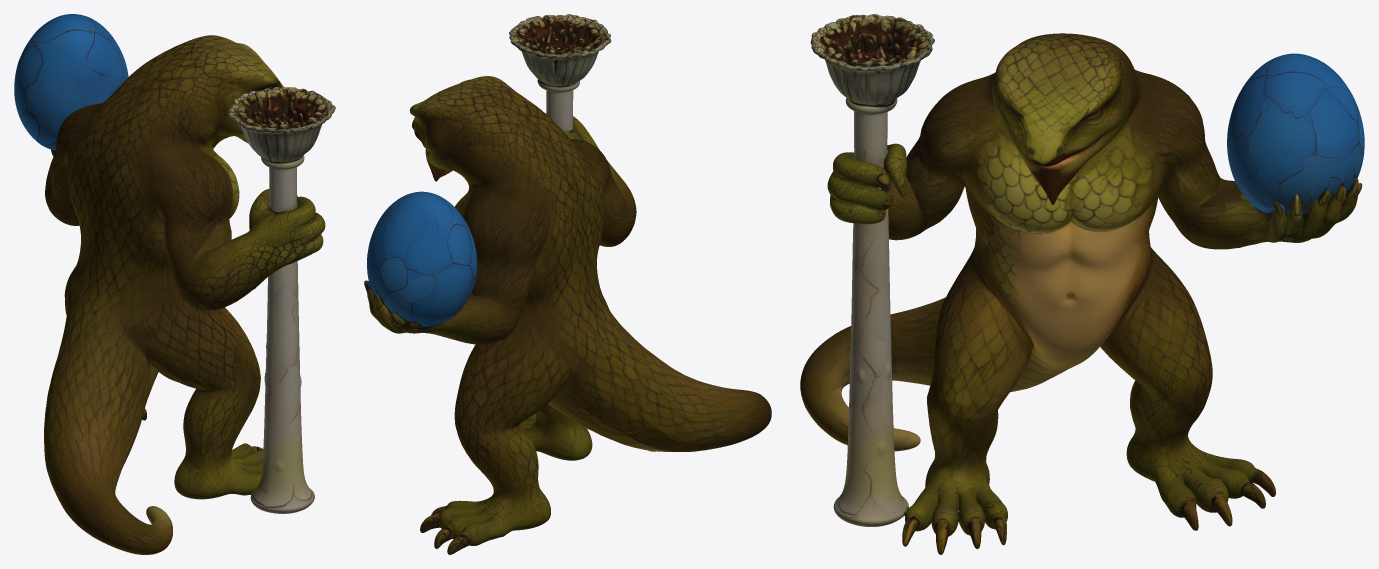
The picture shows the model from 3 angles, left to right: view 1: azimuth 30°, elevation 25°; view 2: azimuth 150°, elevation 25°; view 3: azimuth 270°, elevation 25°; orthographic projection. The views are drawn at different scales.
Parts seen in each view (by area): view 1: tripo_node_0dc7565d-4281-44e9-ae78-b528af486db5; view 2: tripo_node_0dc7565d-4281-44e9-ae78-b528af486db5; view 3: tripo_node_0dc7565d-4281-44e9-ae78-b528af486db5.
Boxes of the visible parts, left/top/right/bottom form: tripo_node_0dc7565d-4281-44e9-ae78-b528af486db5: left=14, top=14, right=335, bottom=554; tripo_node_0dc7565d-4281-44e9-ae78-b528af486db5: left=364, top=14, right=771, bottom=554; tripo_node_0dc7565d-4281-44e9-ae78-b528af486db5: left=800, top=14, right=1364, bottom=554.
Size of the model in its own units: 0.7117 by 0.9627 by 1.
1 material, 1 textured.
